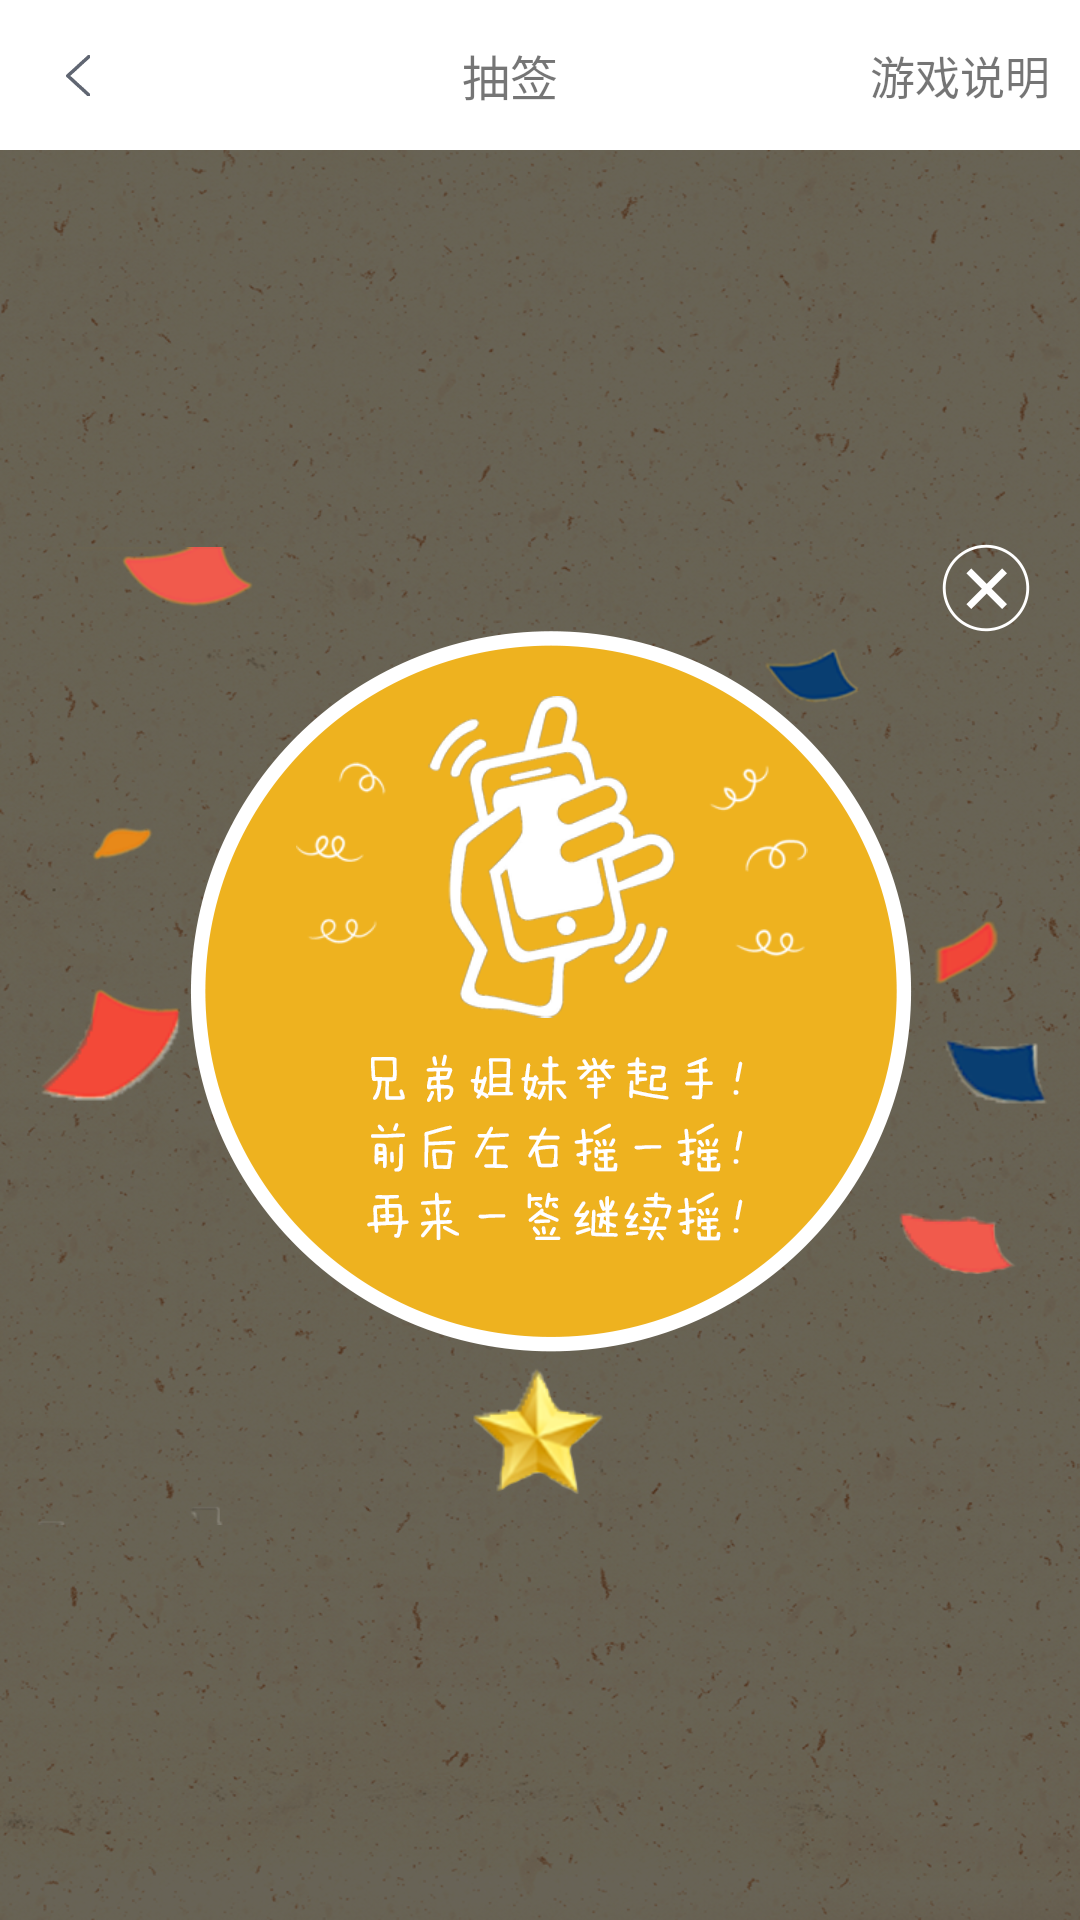

Icon bounding boxes for this 1080px×1920px phone screenshot, format (x1, y1, x2, y2):
return: (66, 55, 90, 96)
